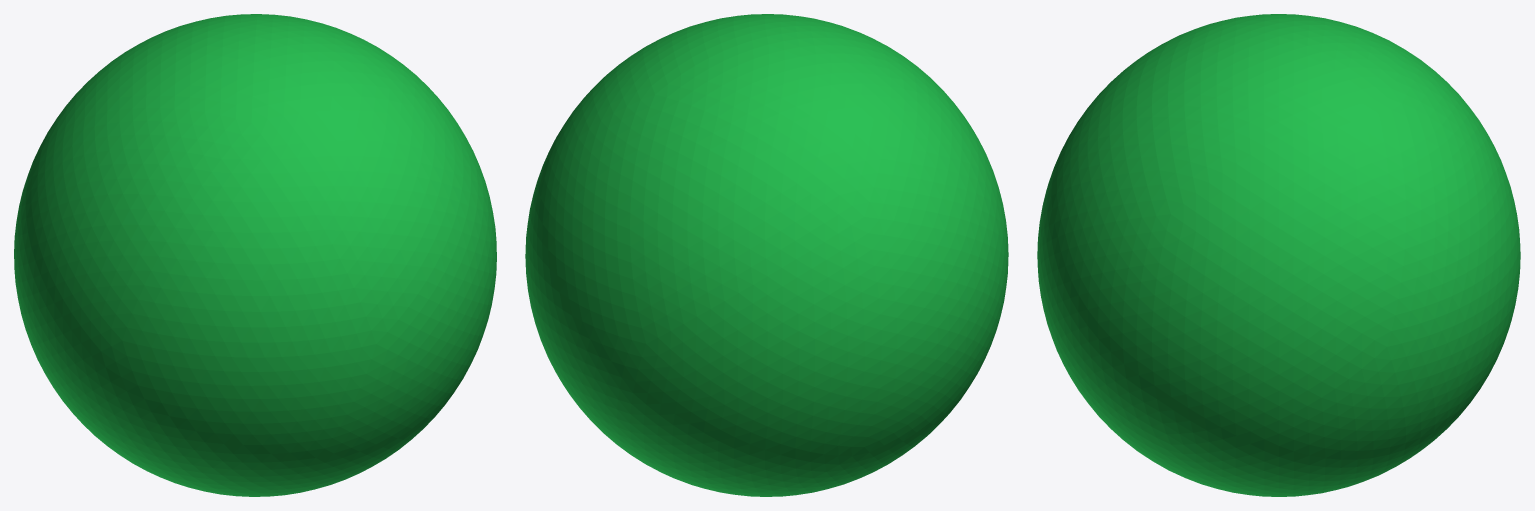
File: Sphere_big.obj
3 views of the same model, side by side, from view 1: azimuth 30°, elevation 25°; view 2: azimuth 150°, elevation 25°; view 3: azimuth 270°, elevation 25° (orthographic).
Parts seen in each view (by area): view 1: Object.1; view 2: Object.1; view 3: Object.1.
Part boxes in pixels (x1=…): Object.1: x1=14, y1=14, x2=496, y2=496; Object.1: x1=525, y1=14, x2=1008, y2=496; Object.1: x1=1037, y1=14, x2=1520, y2=496.
Bounding box in the file's own units: 40 × 40 × 40.
